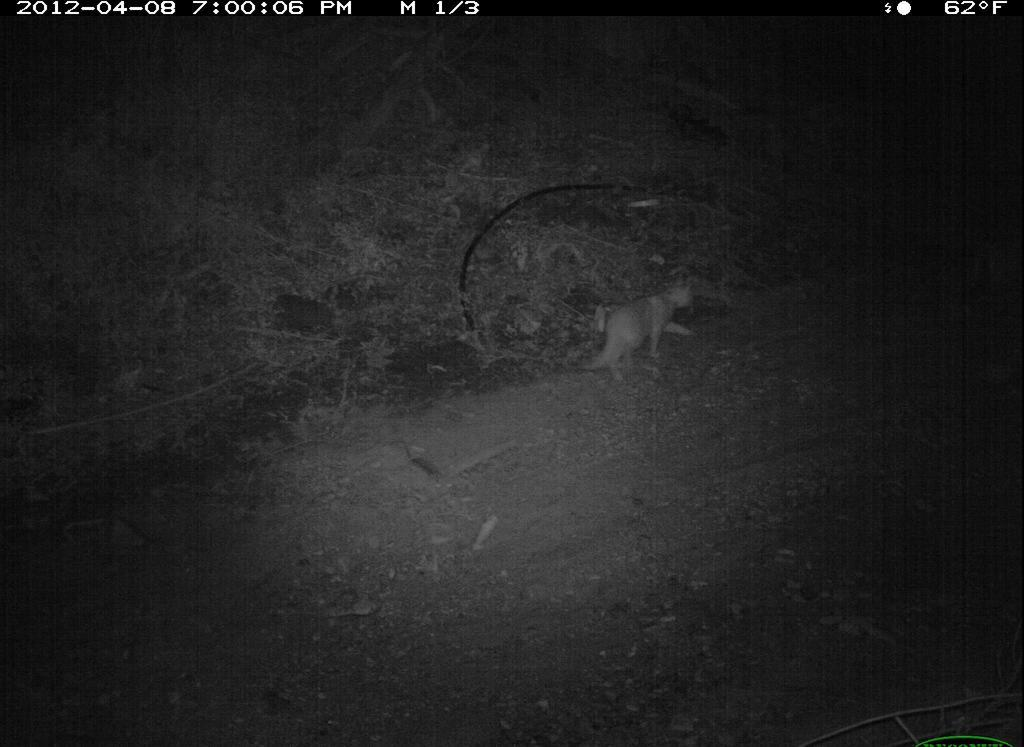cat: (583, 267, 711, 401)
